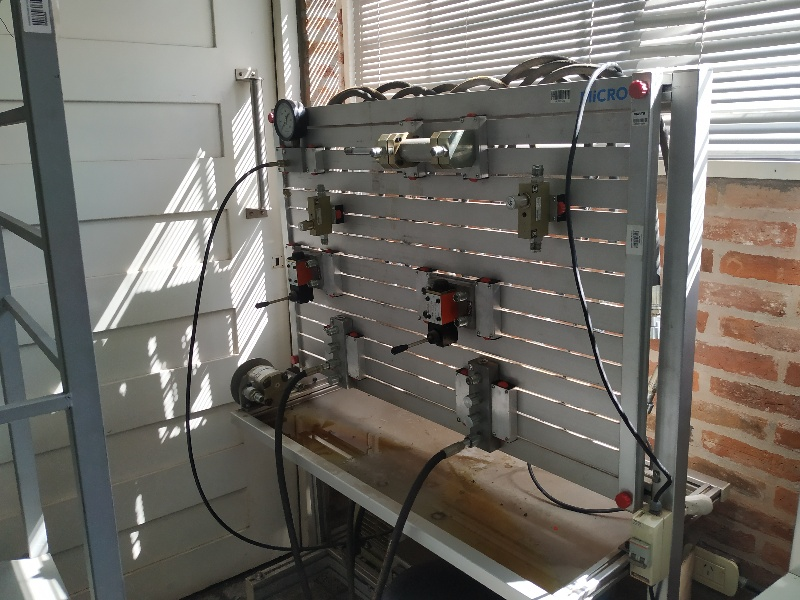Tablero 5: (265, 101, 673, 470)
